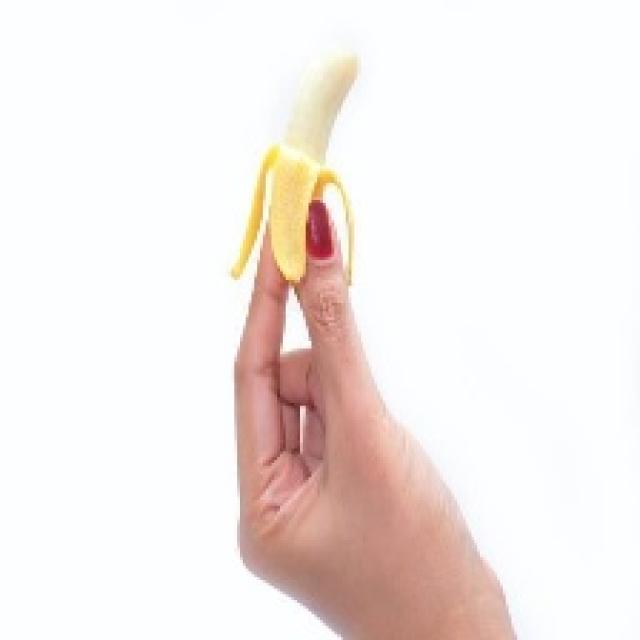Banana: (229, 46, 360, 286)
